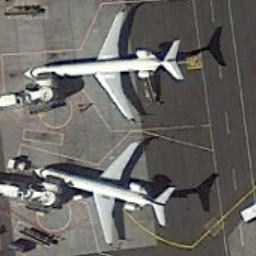Airplane: (16, 1, 193, 128), (30, 135, 180, 248)
